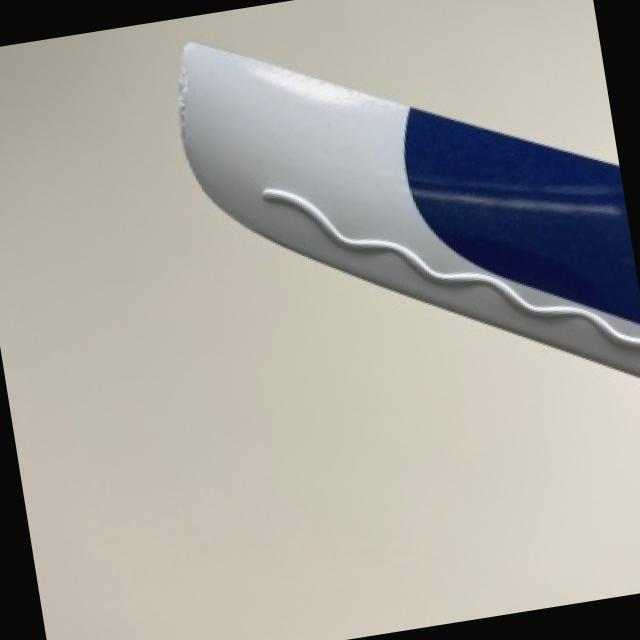healthy: (177, 42, 640, 374)
